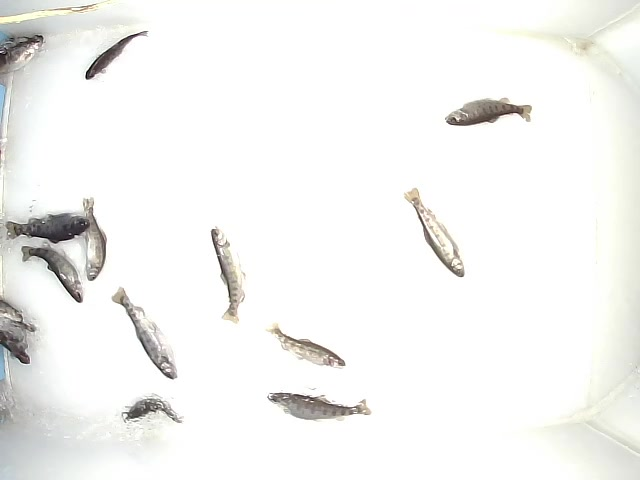fish: (110, 285, 182, 383), (403, 185, 464, 280), (16, 241, 84, 305), (264, 319, 348, 370), (207, 224, 247, 323), (82, 28, 150, 83), (267, 387, 371, 422), (444, 96, 534, 128), (5, 209, 93, 241), (78, 194, 107, 283), (121, 394, 184, 424)
